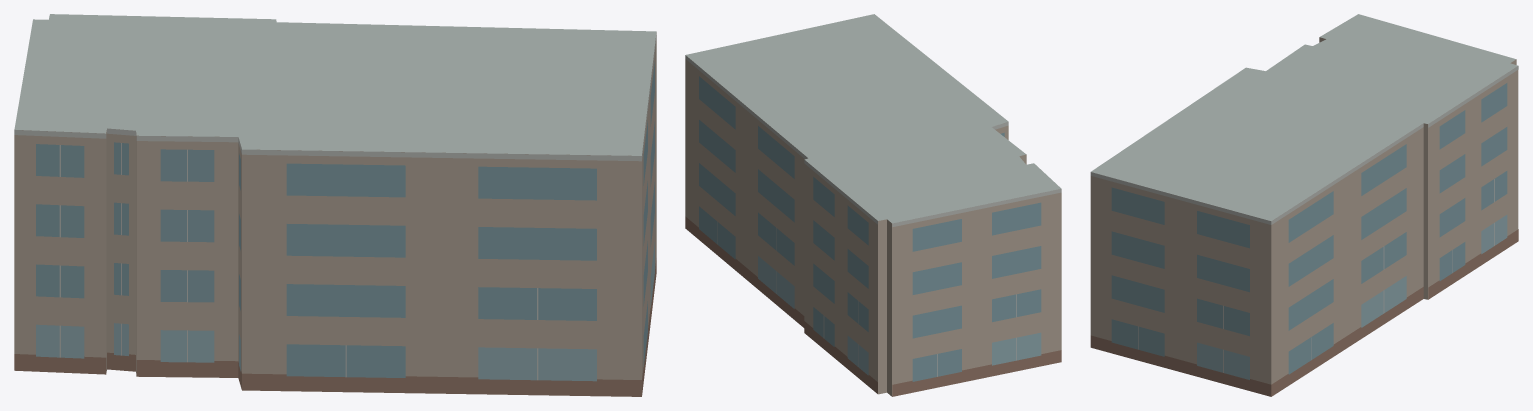
Rendered from survey-upis-32707421.glb.
3 views of the same model, side by side, from view 1: azimuth 30°, elevation 25°; view 2: azimuth 150°, elevation 25°; view 3: azimuth 270°, elevation 25° (orthographic). The views are drawn at different scales.
Parts seen in each view (by area): view 1: survey-upis-32707421.tmp; view 2: survey-upis-32707421.tmp; view 3: survey-upis-32707421.tmp.
Boxes of the visible parts, left/top/right/bottom form: survey-upis-32707421.tmp: left=14, top=14, right=656, bottom=396; survey-upis-32707421.tmp: left=685, top=14, right=1061, bottom=396; survey-upis-32707421.tmp: left=1090, top=14, right=1518, bottom=396.
Bounding box in the file's own units: 28.34 × 11.2 × 24.73.
